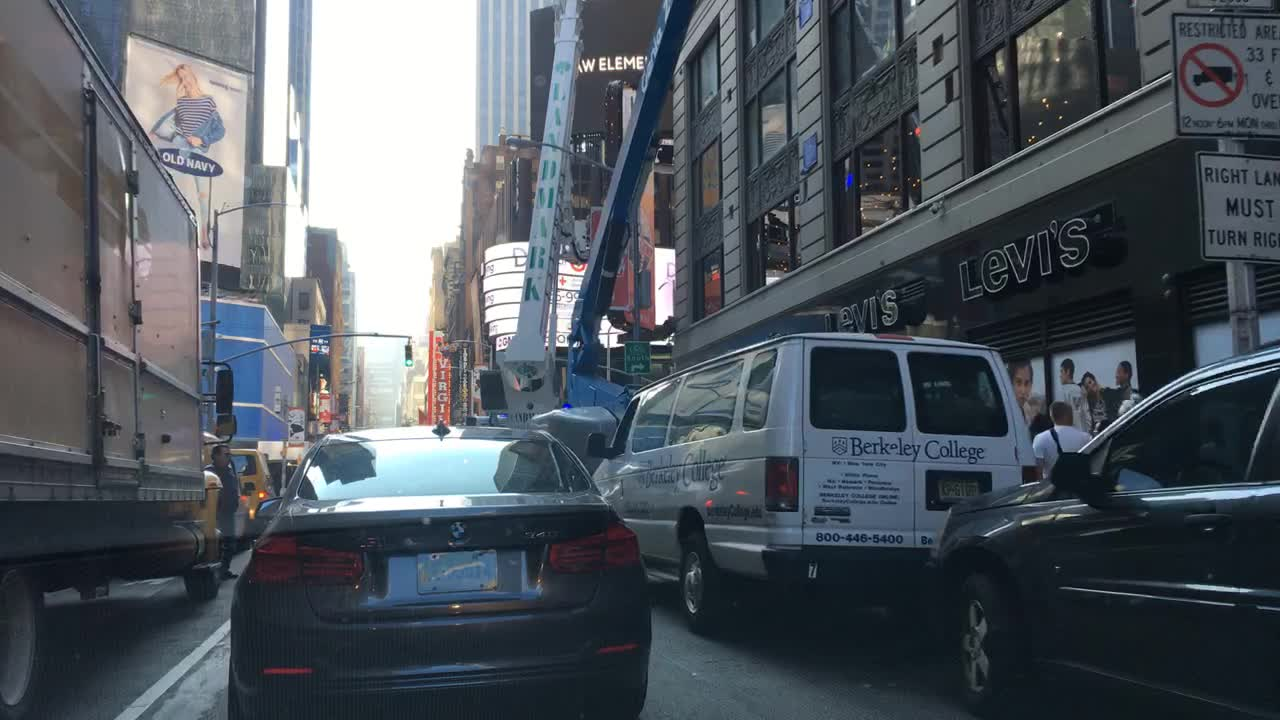car: (590, 331, 1029, 632), (225, 419, 653, 717), (919, 350, 1253, 715), (223, 445, 273, 549)
person: (1026, 407, 1098, 486), (206, 445, 240, 580), (1029, 410, 1050, 443), (1088, 417, 1111, 437)
traffic light: (403, 342, 414, 365)
traffic sign: (1171, 11, 1276, 139), (1189, 150, 1275, 261), (622, 335, 651, 376), (1182, 0, 1272, 7)
truck: (0, 0, 201, 709)
